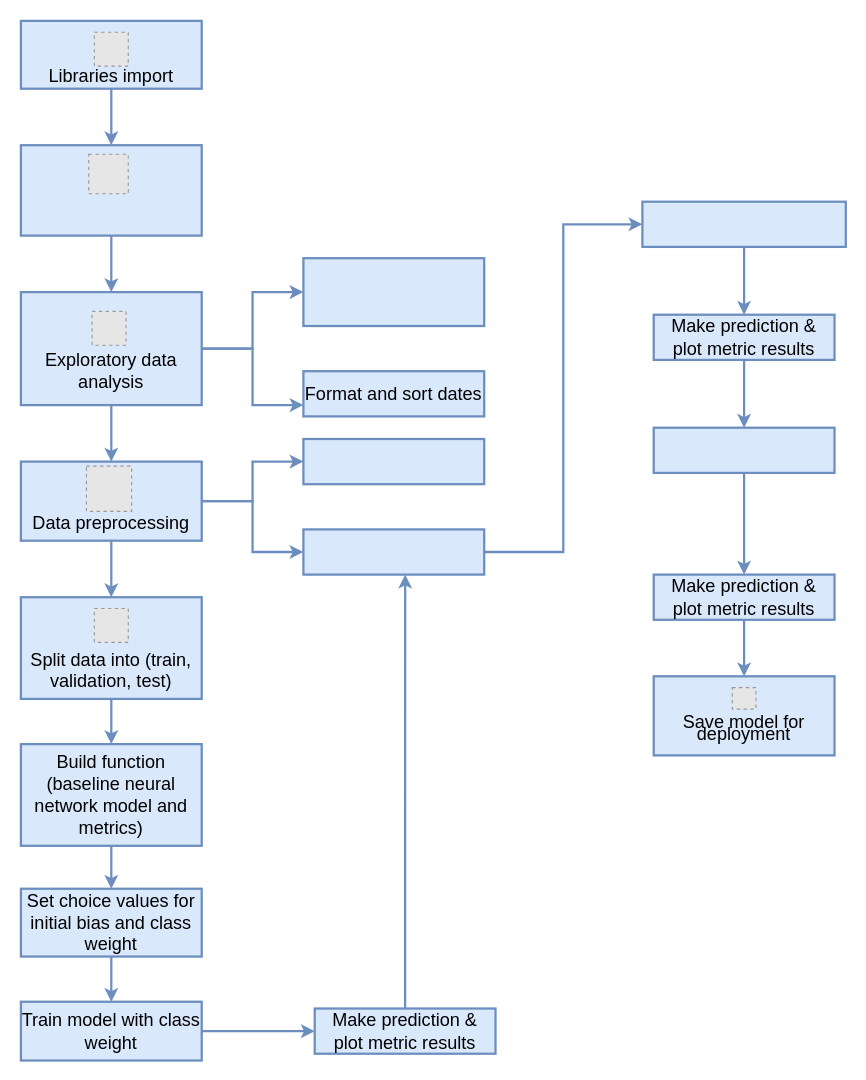
Some shapes in this 866 by 1080 pixel diagram are drawn without their labels. Grey dashed boxes stand in for pictures. The shapes that lost their labels are listed below. From the top down, each one's box as (x1, y1, x2, y2) in pixels, then its label:
(19, 144, 202, 236): Dataset import
(641, 200, 846, 247): Train model with 100 epochs
(302, 257, 485, 327): Check data information and missing values
(302, 437, 485, 485): Fill in missing values
(652, 426, 835, 473): Retrain model with 1000 epochs
(302, 528, 485, 575): Oversample minority class
